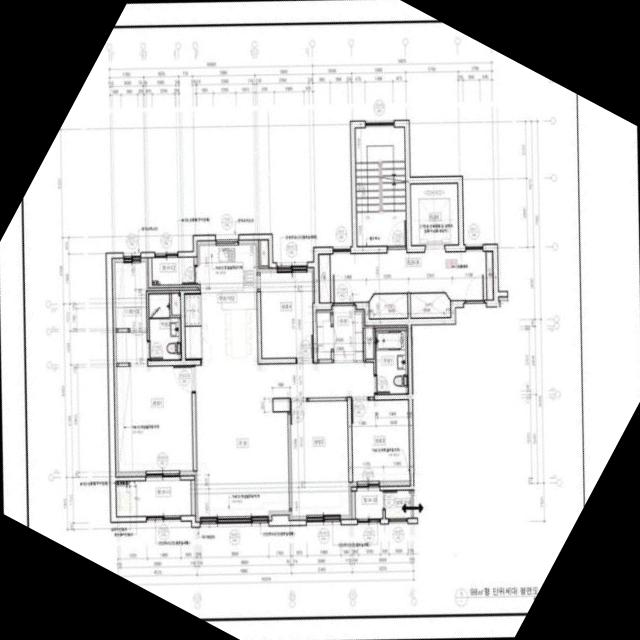background: (0, 0, 640, 640)
space_balconi: (116, 480, 191, 516), (152, 257, 193, 284), (355, 491, 382, 518)
space_bedroom: (113, 332, 192, 476), (289, 401, 351, 519), (351, 400, 409, 486), (260, 268, 314, 358)
space_dressroom: (112, 258, 148, 328)
space_elevator: (410, 183, 458, 245)
space_elevator_hall: (330, 251, 486, 302)
space_front: (316, 305, 364, 363)
space_kitchen: (184, 240, 258, 365)
space_living_room: (194, 362, 374, 521)
space_other: (410, 293, 450, 317), (369, 293, 407, 318), (318, 254, 330, 302), (486, 251, 493, 299), (365, 326, 373, 358), (260, 239, 269, 265), (171, 293, 180, 315)
space_outdoor_room: (385, 490, 411, 518)
space_staircase: (355, 127, 406, 246)
space_toilet: (149, 294, 180, 359), (376, 331, 407, 393)
